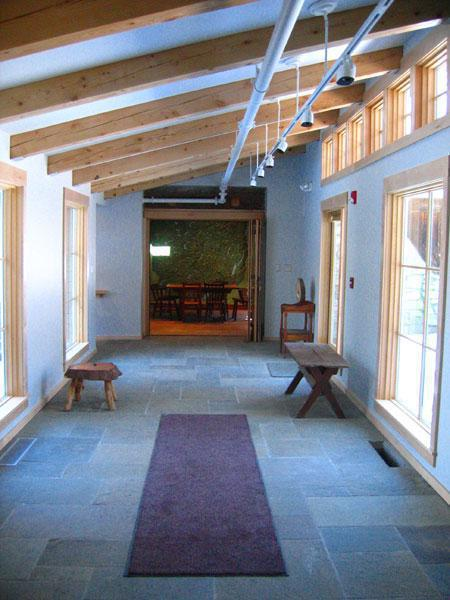Ventana: (376, 183, 437, 456), (2, 178, 28, 425), (64, 188, 91, 358), (318, 199, 341, 346)
